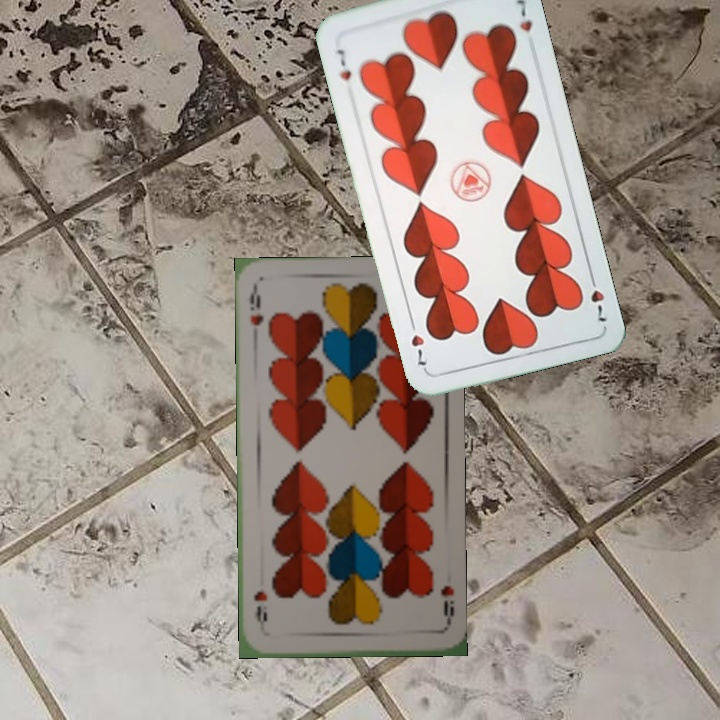H7: (585, 269, 609, 325), (333, 45, 354, 83)
H9: (437, 581, 457, 630), (246, 283, 266, 329)
